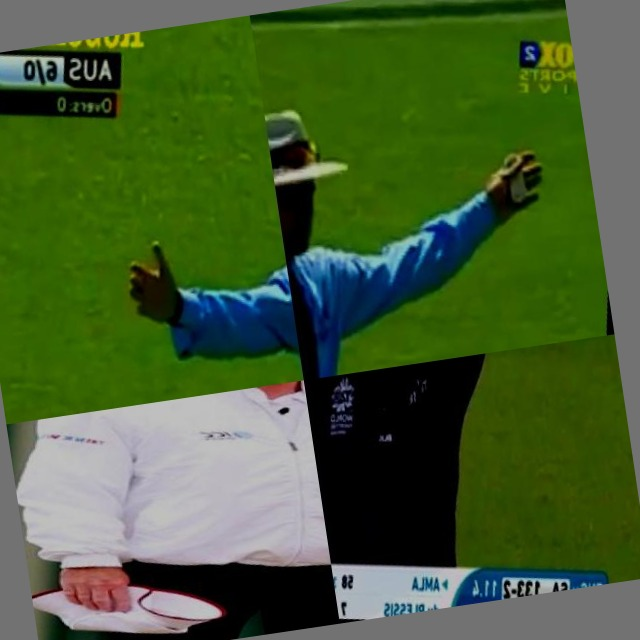No_Action: (6, 380, 340, 640)
No_Ball: (45, 71, 304, 412)
Out: (304, 346, 572, 624)
Wide: (258, 29, 581, 380)
